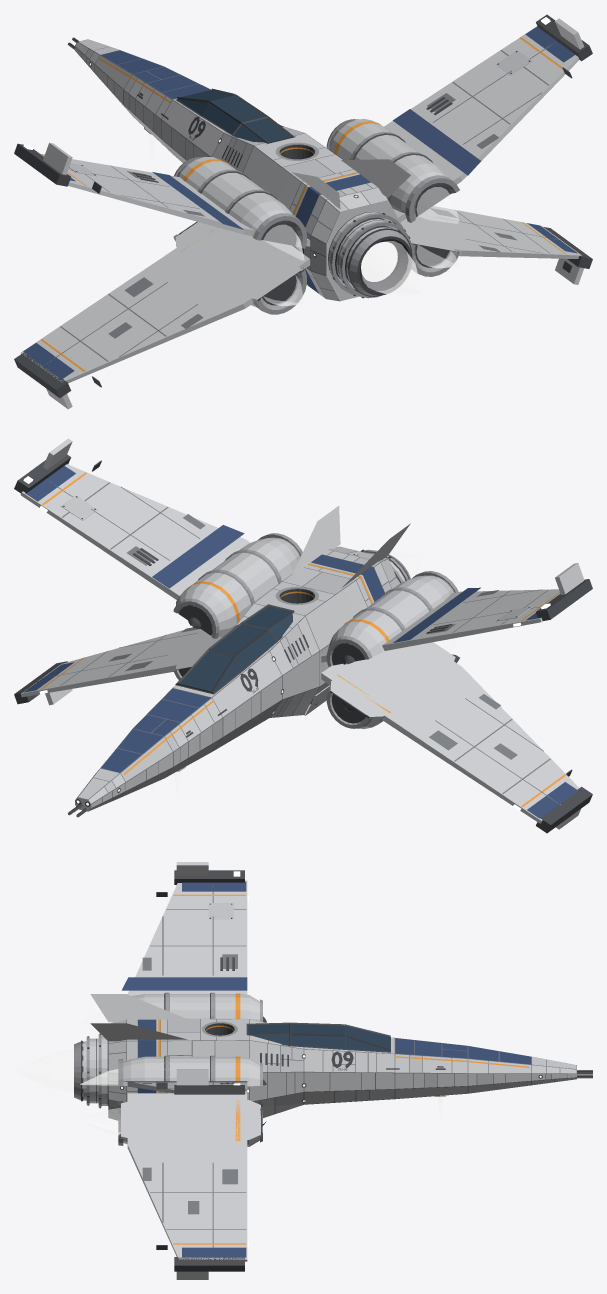
File: vaisseau_exterieur.glb
3 renders of one model, top to bottom at view 1: azimuth 30°, elevation 25°; view 2: azimuth 150°, elevation 25°; view 3: azimuth 270°, elevation 25°, orthographic. The views are drawn at different scales.
Parts seen in each view (by area): view 1: Aile_bas_gauche, Aile_haut_droit, Fuselage, Aile_haut_gauche, Aile_bas_droit, Verriere, Tuyere_segment_3, Panache_moteur_central, Aileron_d, Tuyere_segment_2, Panache_moteur_aile_haut_droit, Lueur_moteur_central (+7 smaller); view 2: Fuselage, Aile_bas_gauche, Aile_haut_droit, Aile_haut_gauche, Aile_bas_droit, Verriere, Aileron_d, Verriere_cadre, Marquages, Emplacement_droide, Aileron_g; view 3: Fuselage, Aile_bas_droit, Aile_haut_gauche, Aile_haut_droit, Verriere, Panache_moteur_central, Aileron_g, Aileron_d, Verriere_cadre, Tuyere_segment_2, Marquages, Tuyere_segment_3 (+2 smaller).
Boxes of the visible parts, left/top/right/bottom form: Aile_bas_gauche: left=14, top=221, right=310, bottom=409; Aile_haut_droit: left=326, top=14, right=592, bottom=222; Fuselage: left=75, top=39, right=401, bottom=301; Aile_haut_gauche: left=14, top=142, right=310, bottom=248; Aile_bas_droit: left=400, top=206, right=592, bottom=284; Verriere: left=177, top=90, right=291, bottom=142; Tuyere_segment_3: left=345, top=225, right=412, bottom=296; Panache_moteur_central: left=361, top=241, right=422, bottom=295; Aileron_d: left=341, top=159, right=410, bottom=197; Tuyere_segment_2: left=335, top=217, right=412, bottom=298; Panache_moteur_aile_haut_droit: left=416, top=187, right=459, bottom=223; Lueur_moteur_central: left=361, top=242, right=397, bottom=281; Fuselage: left=75, top=546, right=399, bottom=811; Aile_bas_gauche: left=321, top=642, right=592, bottom=833; Aile_haut_droit: left=14, top=438, right=302, bottom=638; Aile_haut_gauche: left=321, top=563, right=592, bottom=666; Aile_bas_droit: left=14, top=627, right=222, bottom=705; Verriere: left=176, top=606, right=292, bottom=694; Aileron_d: left=291, top=506, right=340, bottom=576; Verriere_cadre: left=175, top=604, right=294, bottom=693; Marquages: left=123, top=634, right=308, bottom=775; Emplacement_droide: left=275, top=586, right=318, bottom=605; Aileron_g: left=342, top=523, right=410, bottom=587; Fuselage: left=108, top=1019, right=576, bottom=1120; Aile_bas_droit: left=118, top=1093, right=266, bottom=1279; Aile_haut_gauche: left=121, top=862, right=266, bottom=1022; Aile_haut_droit: left=118, top=1055, right=266, bottom=1094; Verriere: left=248, top=1024, right=390, bottom=1052; Panache_moteur_central: left=14, top=1048, right=73, bottom=1093; Aileron_g: left=90, top=994, right=187, bottom=1022; Aileron_d: left=90, top=1023, right=187, bottom=1041; Verriere_cadre: left=246, top=1022, right=390, bottom=1052; Tuyere_segment_2: left=86, top=1036, right=98, bottom=1105; Marquages: left=260, top=1051, right=529, bottom=1070; Tuyere_segment_3: left=74, top=1040, right=86, bottom=1101.
Bounding box in the file's own units: 11.34 × 5.11 × 12.73.
